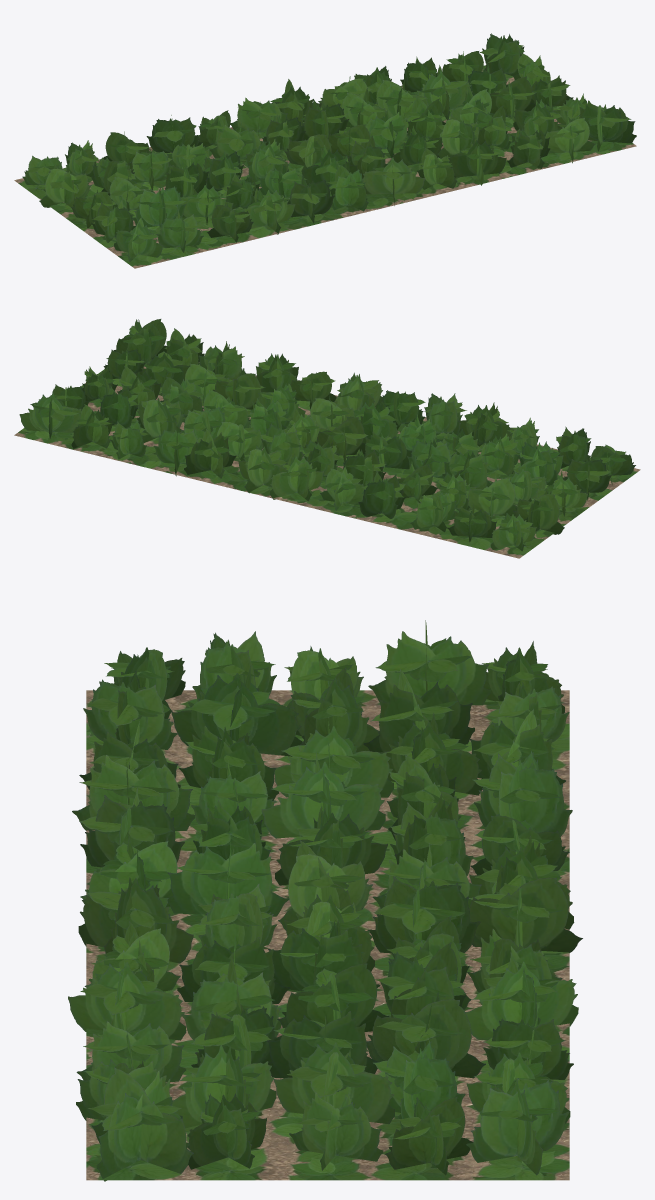
The model's file is crop_sugarbeet_row.glb.
3 renders of one model, top to bottom at view 1: azimuth 30°, elevation 25°; view 2: azimuth 150°, elevation 25°; view 3: azimuth 270°, elevation 25°, orthographic. The views are drawn at different scales.
Parts seen in each view (by area): view 1: crop_sugarbeet_row_LOD0, crop_sugarbeet_row_FLOOR; view 2: crop_sugarbeet_row_LOD0, crop_sugarbeet_row_FLOOR; view 3: crop_sugarbeet_row_LOD0, crop_sugarbeet_row_FLOOR.
Boxes of the visible parts, box(x1,y1,x2,y2) form: crop_sugarbeet_row_LOD0: box(22, 33, 636, 261); crop_sugarbeet_row_FLOOR: box(14, 65, 636, 268); crop_sugarbeet_row_LOD0: box(19, 319, 635, 551); crop_sugarbeet_row_FLOOR: box(14, 362, 640, 558); crop_sugarbeet_row_LOD0: box(68, 620, 582, 1181); crop_sugarbeet_row_FLOOR: box(86, 690, 569, 1180).
Size of what is drawn, in the model's own units: 6.45 by 0.5933 by 2.9.
Materials: 2 (2 with a texture image).
